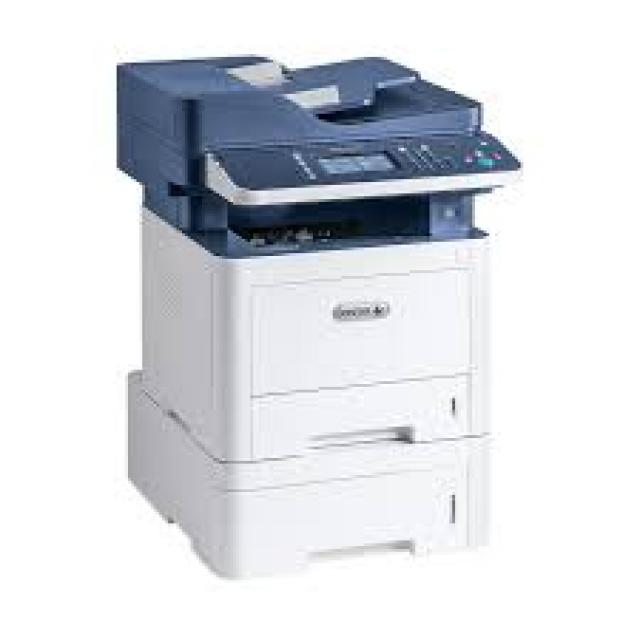printer: (82, 22, 530, 600)
